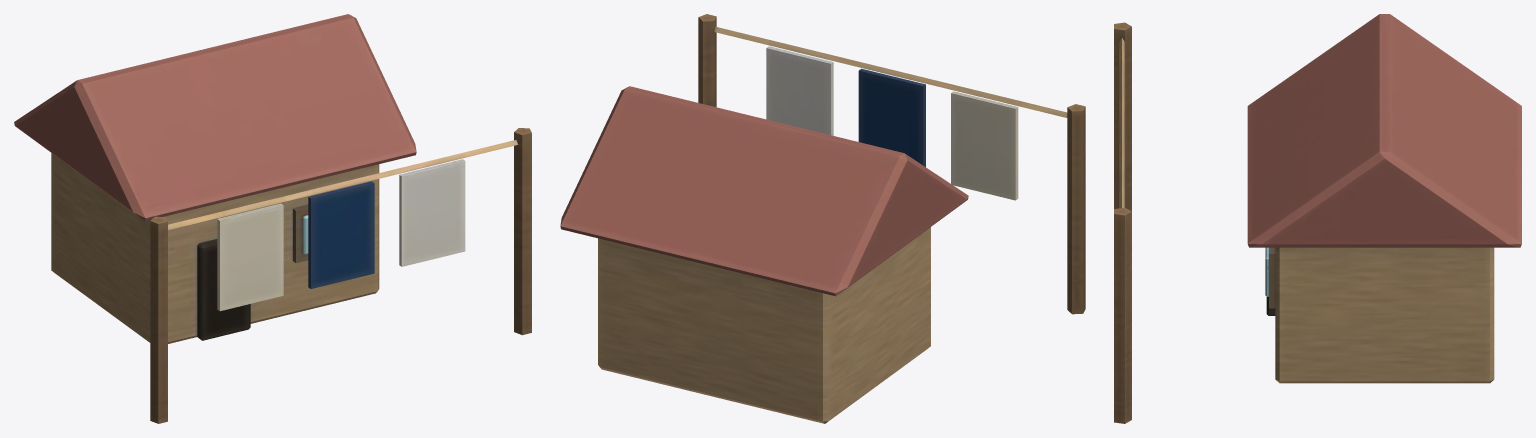
The model's file is house-1-age1.glb.
3 views of the same model, side by side, from view 1: azimuth 30°, elevation 25°; view 2: azimuth 150°, elevation 25°; view 3: azimuth 270°, elevation 25° (orthographic). The views are drawn at different scales.
Parts seen in each view (by area): view 1: house-1-age1; view 2: house-1-age1; view 3: house-1-age1.
Part boxes in pixels (<box>): house-1-age1: <box>14,14,531,423</box>; house-1-age1: <box>560,14,1085,423</box>; house-1-age1: <box>1114,14,1521,423</box>.
Size of the model in its own units: 0.8342 by 0.4927 by 0.7451.
Materials: 1 (1 with a texture image).
